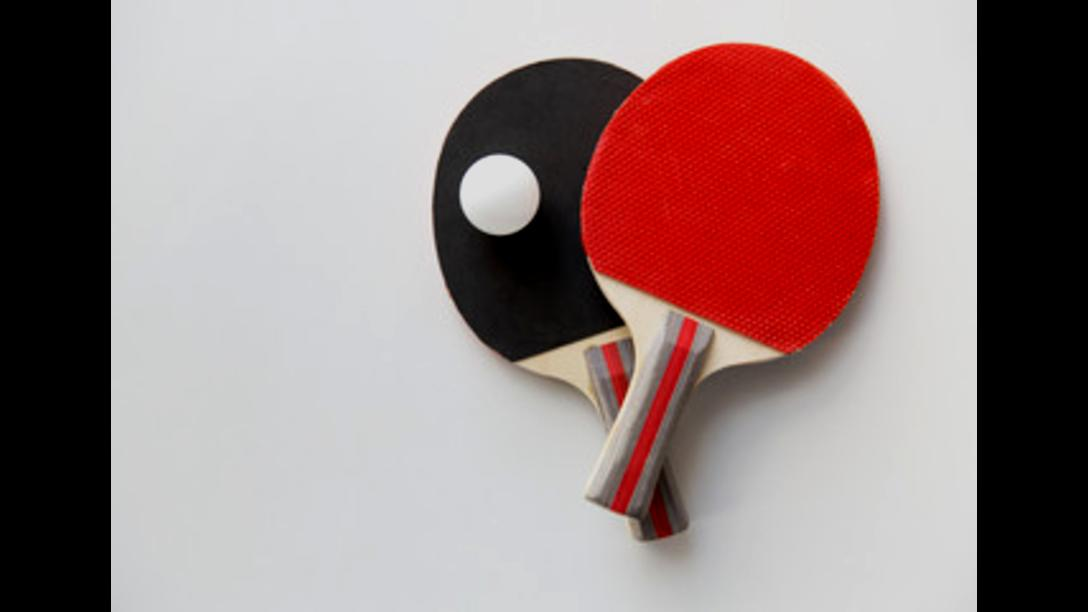Table-Tennis-Ball: (462, 153, 538, 233)
